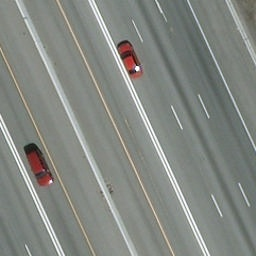car: (115, 40, 144, 81), (25, 150, 54, 186)
